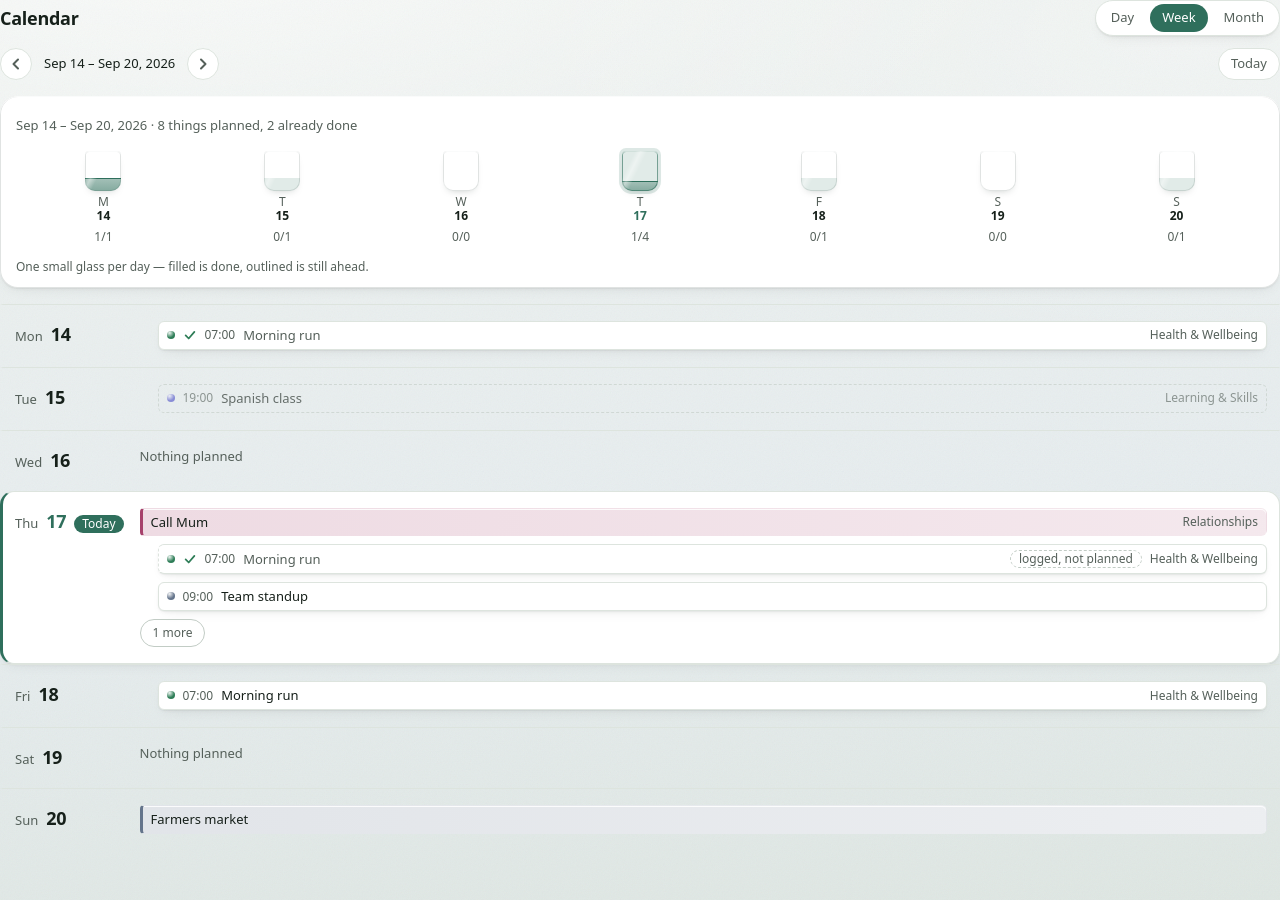
Scenario: CalendarScreen › asks for the whole month grid, padding included, in the month view
The width and height of the screenshot is (1280, 900).
Expected: the text "Sep 14 – Sep 20, 2026 · 8 things planned, 2 already done" is shown, [16,116,357,134]
Click the tab "Month": (1244, 18) [1212,4,1276,32]
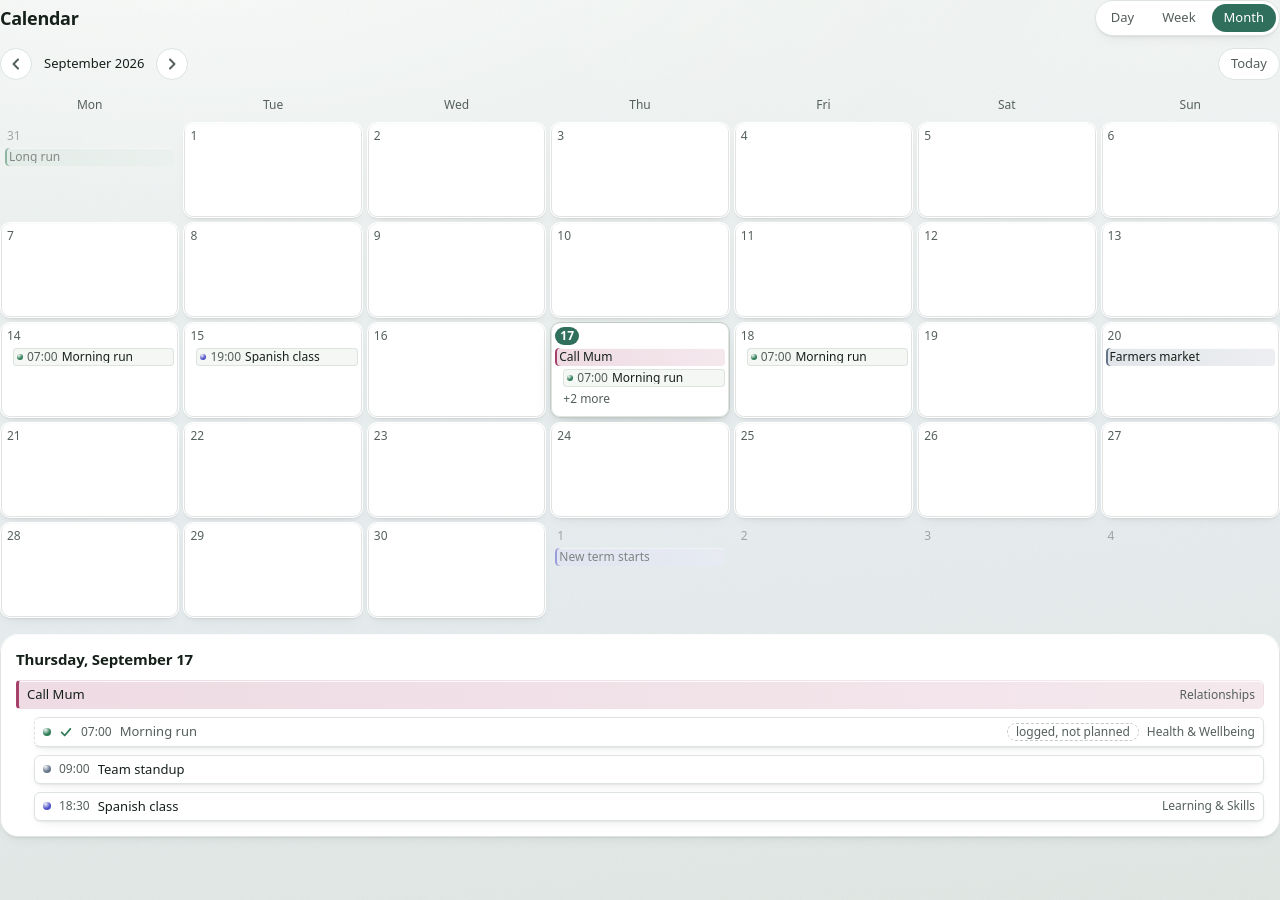
Expected: the text "Long run" is shown, [9,150,60,163]
Expected: the text "New term starts" is shown, [559,550,650,563]
